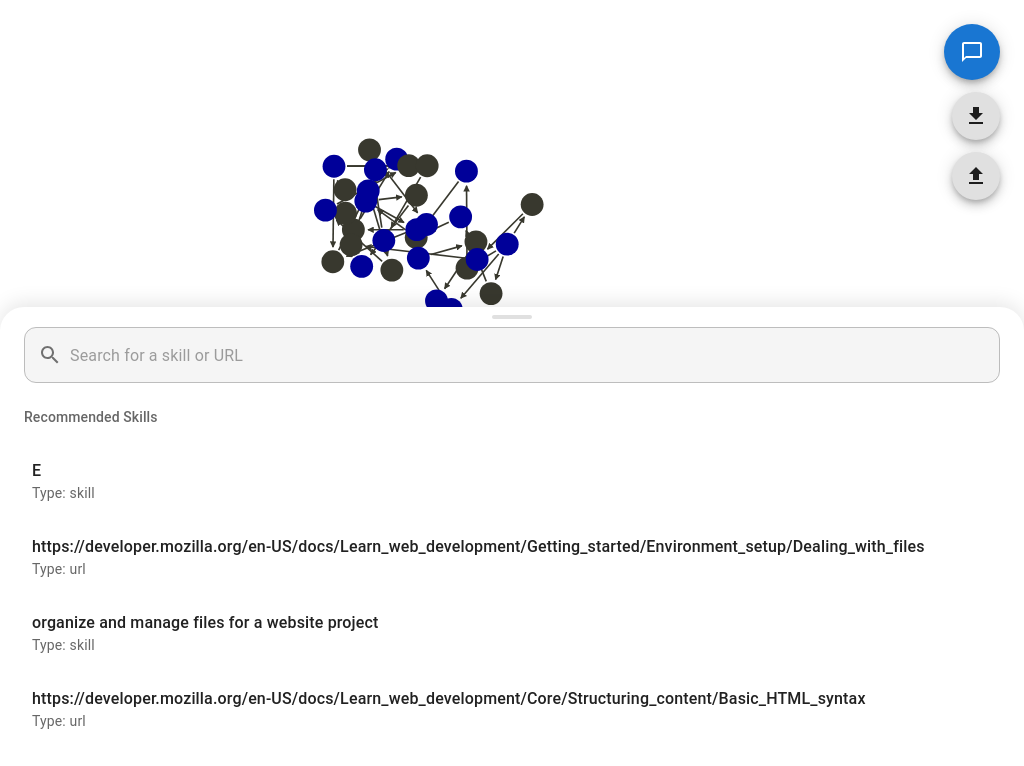
Test: Path Traversal with Move Forward › displays Move Forward button after generating a path
The image size is (1024, 766).
Click the field with placeholder "Search for a skill or URL" at (535, 355), box [70, 327, 1000, 383]
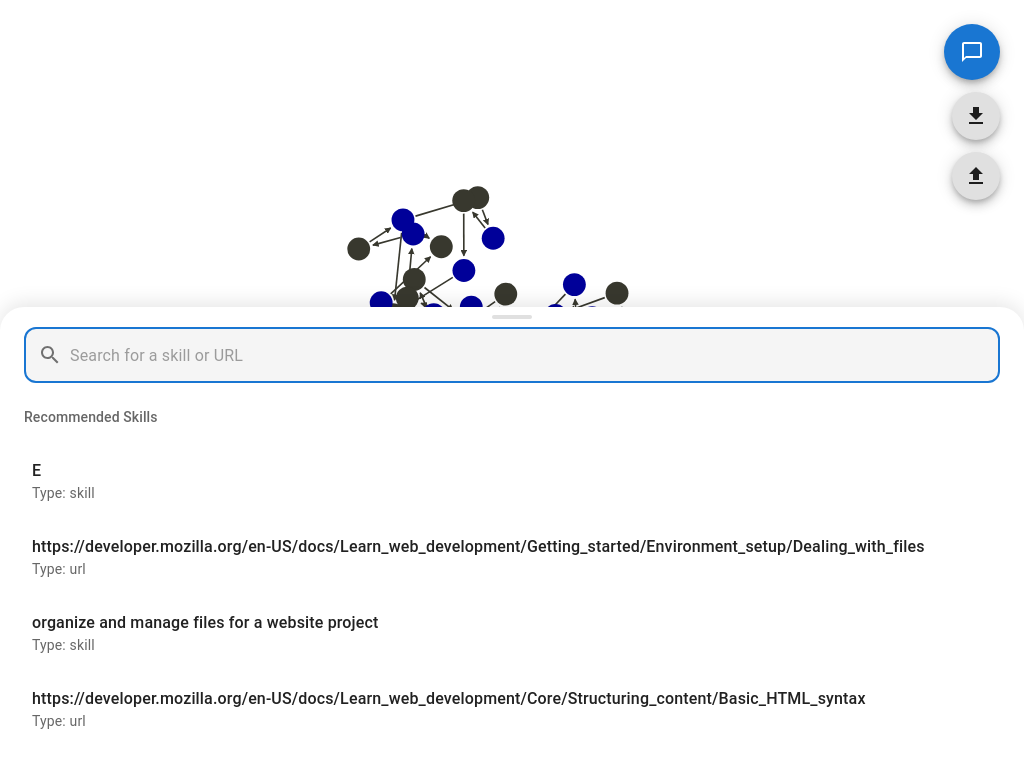
Type keys "javascript"
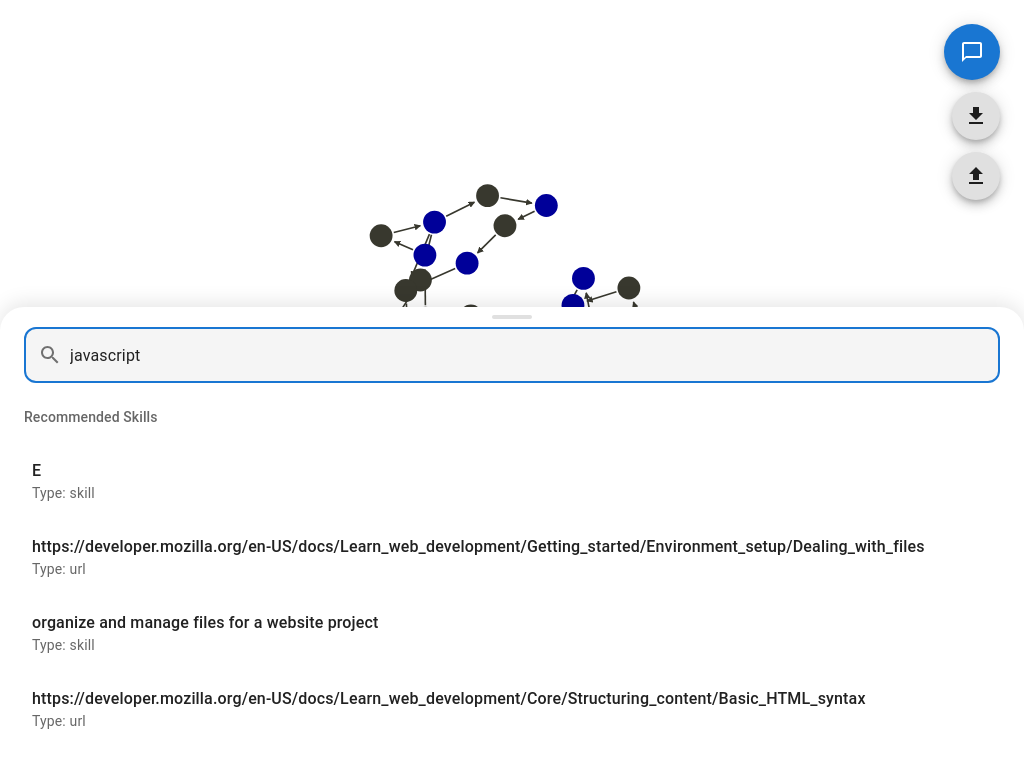
Press Enter
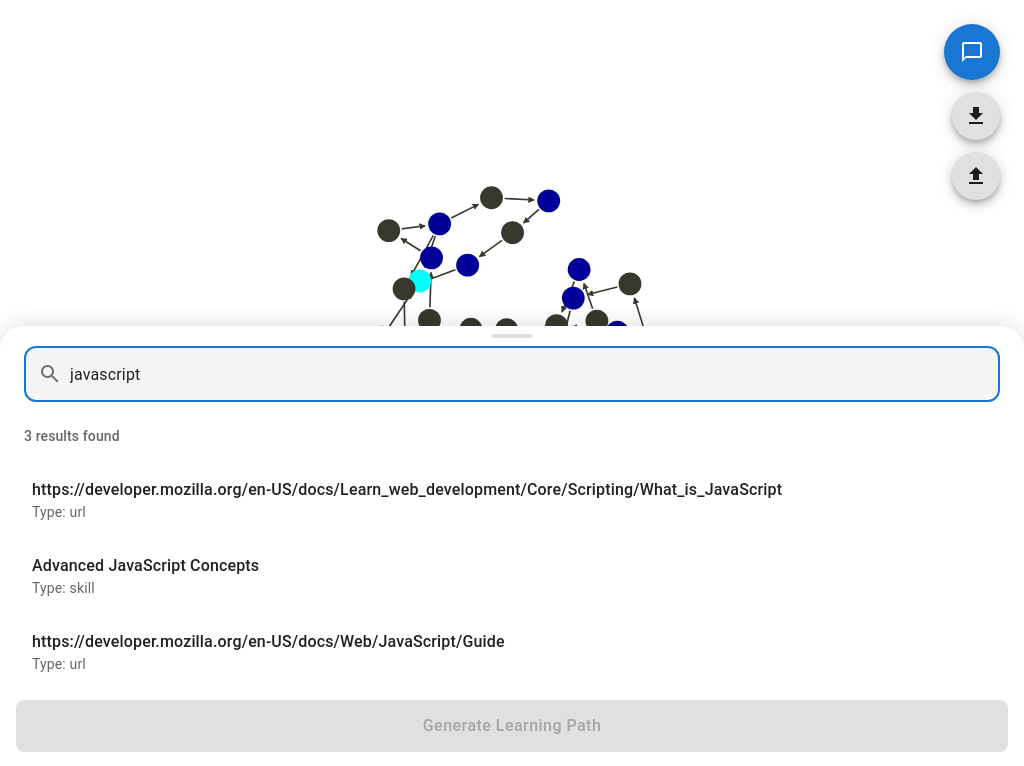
Click the button named "javascript" at (407, 500), box [32, 480, 782, 520]
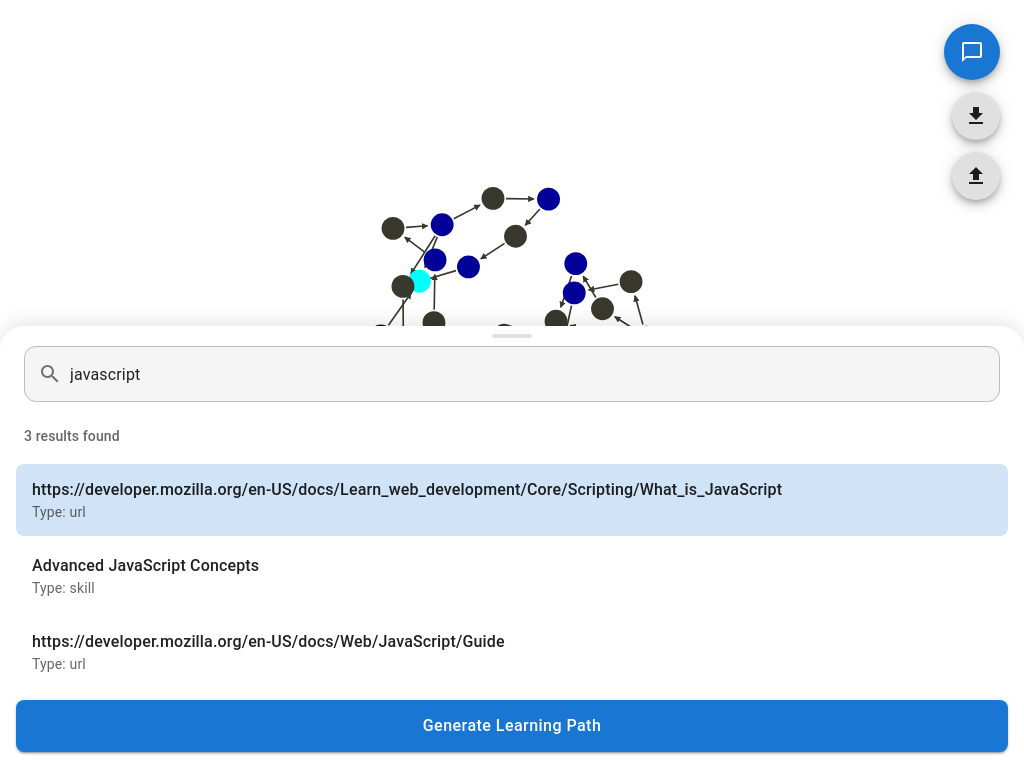
Click the button "Generate Learning Path" at (512, 726), box [16, 700, 1008, 752]
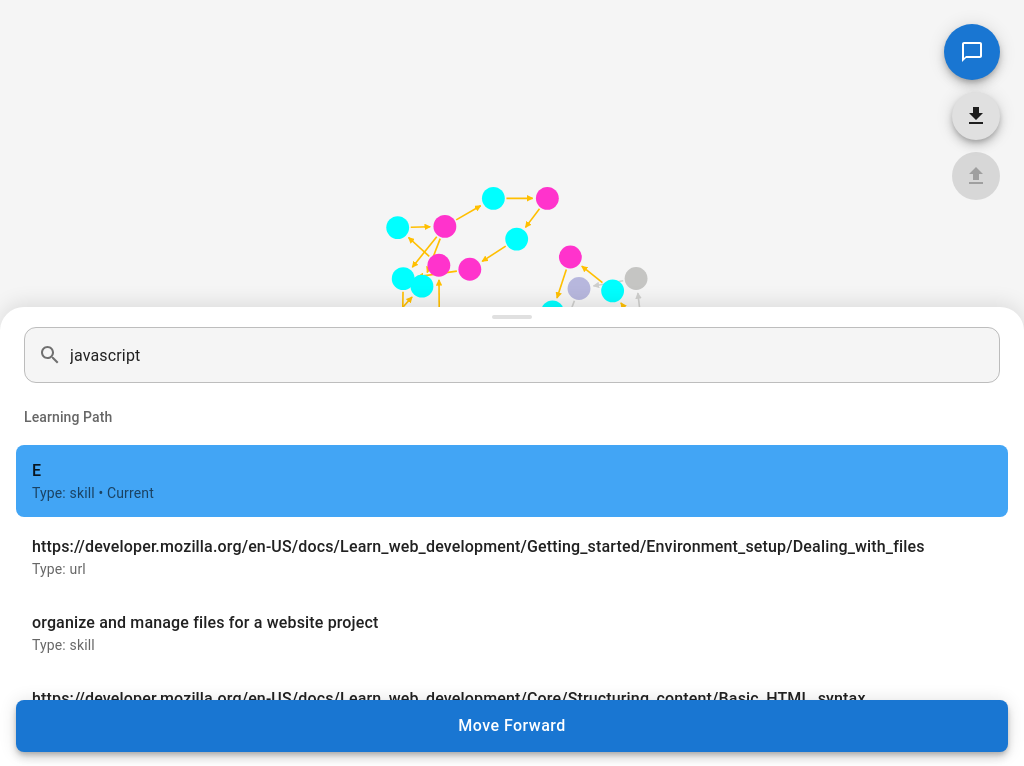
Now the heading "Learning Path" is shown, box [24, 409, 112, 425]
Now the button "Move Forward" is shown, box [16, 700, 1008, 752]
